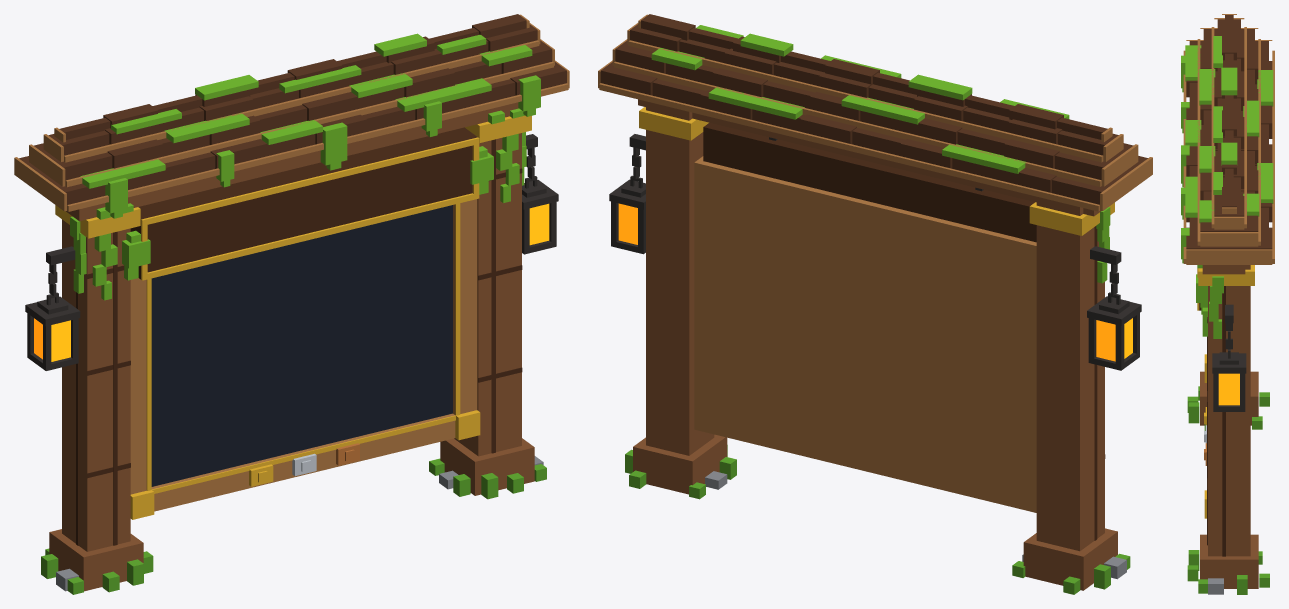
Rendered from Lobby_Leaderboard.glb.
The picture shows the model from 3 angles, left to right: view 1: azimuth 30°, elevation 25°; view 2: azimuth 150°, elevation 25°; view 3: azimuth 270°, elevation 25°; orthographic projection. The views are drawn at different scales.
Parts seen in each view (by area): view 1: LeaderboardFace, Roof_Shingles, Header_Plank, Post_L, Frame, Post_R, Roof_Edge_Planks, Roof_Moss, Header_Trim, Crossbeam, Screen_Trim, Roof_Moss_Drips (+16 smaller); view 2: Frame, Roof_Shingles, Post_L, Post_R, Header_Plank, Roof_Edge_Planks, Roof_Moss, Foot_L, Foot_R, Lantern_L_Frame, Crossbeam, Lantern_R_Frame (+7 smaller); view 3: Roof_Shingles, Post_R, Roof_Moss, Roof_Edge_Planks, Foot_R, Lantern_R_Frame, Post_R_Grooves, Grass_R, Roof_Moss_Drips, Post_R_Vines, Foot_L, Lantern_R_Glass (+8 smaller).
Part boxes in pixels (x1,y1,x2,y2): LeaderboardFace: (151, 205, 452, 486); Roof_Shingles: (19, 14, 566, 204); Header_Plank: (130, 127, 477, 279); Post_L: (62, 219, 130, 551); Frame: (130, 199, 477, 511); Post_R: (454, 133, 521, 456); Roof_Edge_Planks: (14, 14, 569, 211); Roof_Moss: (80, 33, 532, 188); Header_Trim: (141, 137, 479, 280); Crossbeam: (66, 102, 518, 221); Screen_Trim: (146, 203, 460, 493); Roof_Moss_Drips: (105, 75, 540, 218); Frame: (694, 156, 1036, 512); Roof_Shingles: (600, 14, 1147, 204); Post_L: (1036, 197, 1104, 551); Post_R: (646, 101, 714, 455); Header_Plank: (703, 122, 1036, 242); Roof_Edge_Planks: (598, 14, 1152, 211); Roof_Moss: (651, 25, 1069, 173); Foot_L: (1023, 528, 1117, 590); Foot_R: (633, 434, 727, 494); Lantern_L_Frame: (1087, 292, 1141, 370); Crossbeam: (638, 99, 1100, 216); Lantern_R_Frame: (609, 175, 645, 254); Roof_Shingles: (1186, 15, 1272, 249); Post_R: (1208, 265, 1250, 556); Roof_Moss: (1185, 36, 1273, 223); Roof_Edge_Planks: (1183, 14, 1274, 264); Foot_R: (1200, 534, 1258, 588); Lantern_R_Frame: (1212, 349, 1246, 411); Post_R_Grooves: (1207, 286, 1225, 556); Grass_R: (1187, 550, 1269, 594); Roof_Moss_Drips: (1181, 55, 1189, 263); Post_R_Vines: (1200, 286, 1221, 338); Foot_L: (1200, 371, 1258, 425); Lantern_R_Glass: (1218, 373, 1239, 405).
Bounding box in the file's own units: 4.72 × 4 × 0.875.
